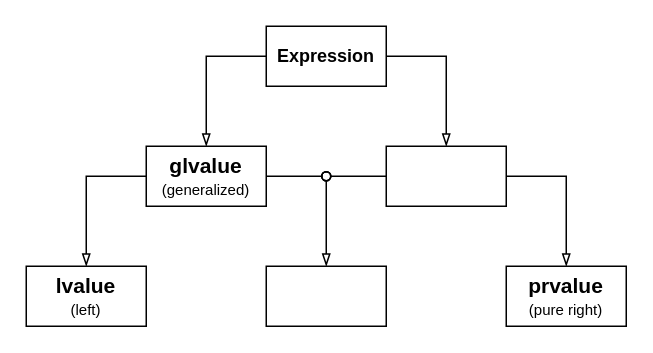
This 653x353 diagram has some shape labels left out. Here are the shapes that lost their labels. From the top down, the box of each, then its label:
(385, 145, 506, 206): rvalue (right)
(265, 265, 386, 326): xvalue (expiring)
